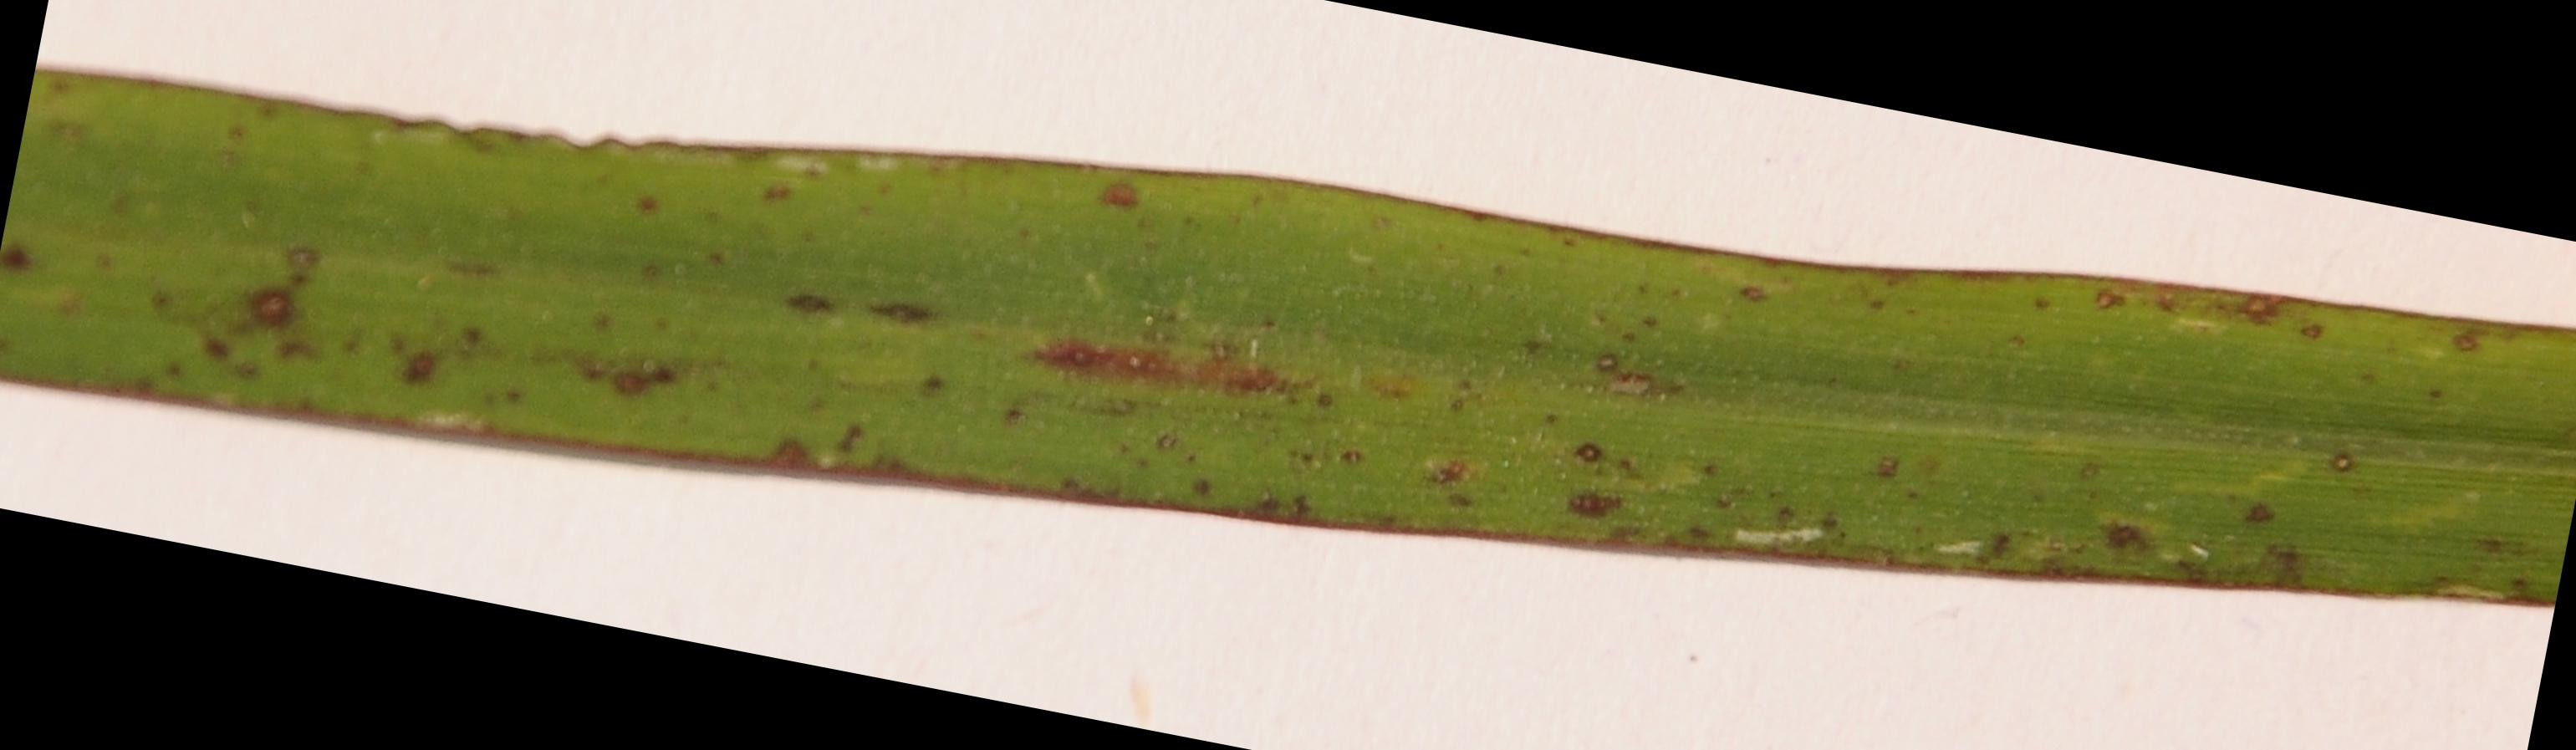leaf_smut: (207, 133, 1792, 527)
